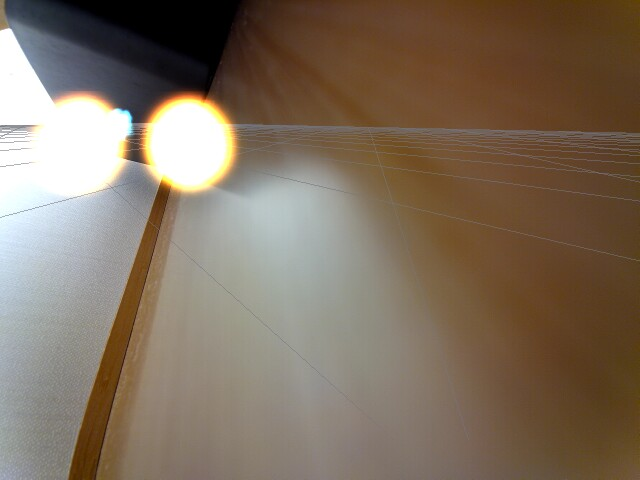firebig: (143, 86, 242, 204)
